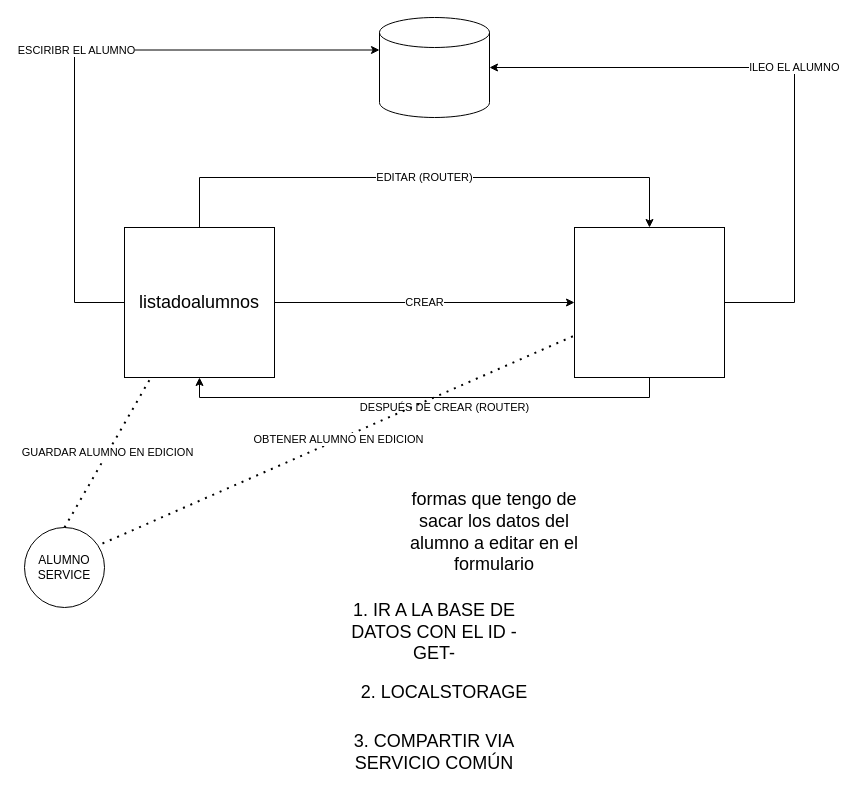
Some shapes in this 857 by 795 pixel diagram are drawn without their labels. Each missing label, with the centre of its shape:
"formulario" belongs at pixel 649 302.
"LOCALSTORAGE" belongs at pixel 434 67.
